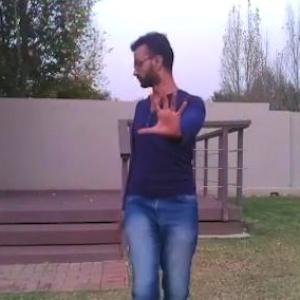follow_hand: (135, 81, 191, 142)
